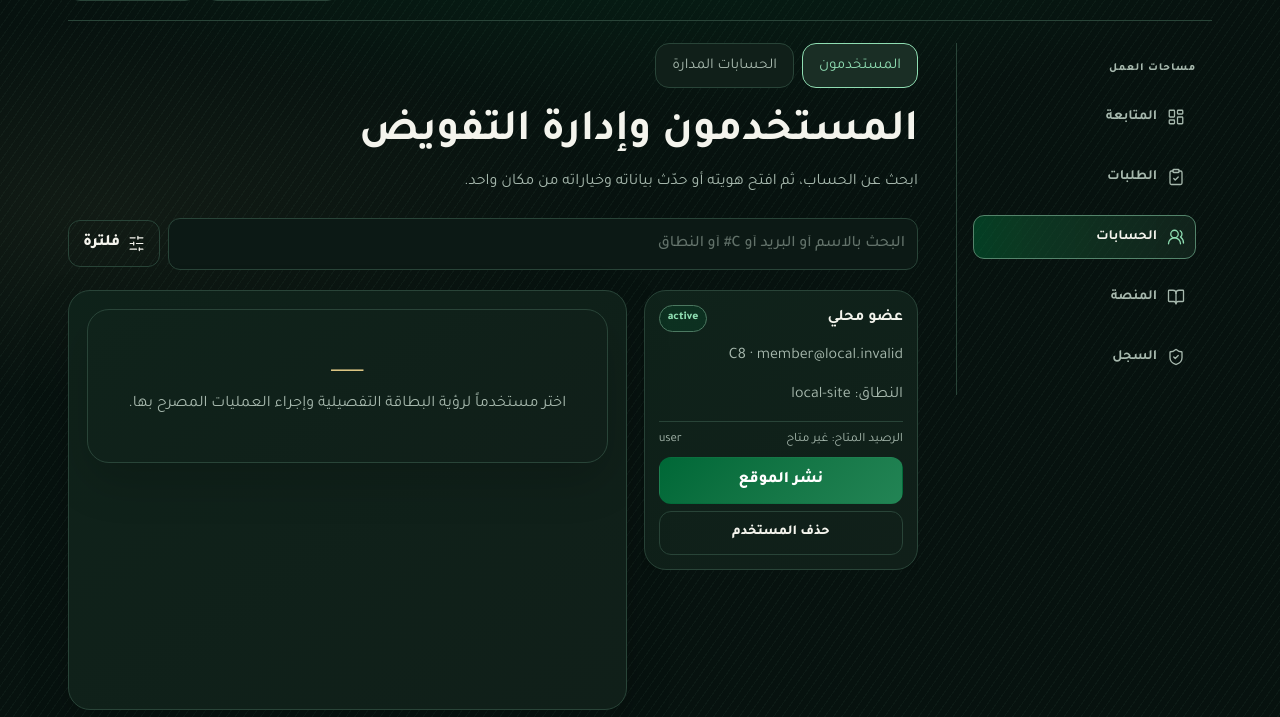
Test case: focused administrator workspace — local DOM/mock API only › opens the existing user-removal panel directly from the user card with account-only selected
Click the button "حذف المستخدم".
click(781, 533)  # box [659,511,903,555]
(page scrolled)
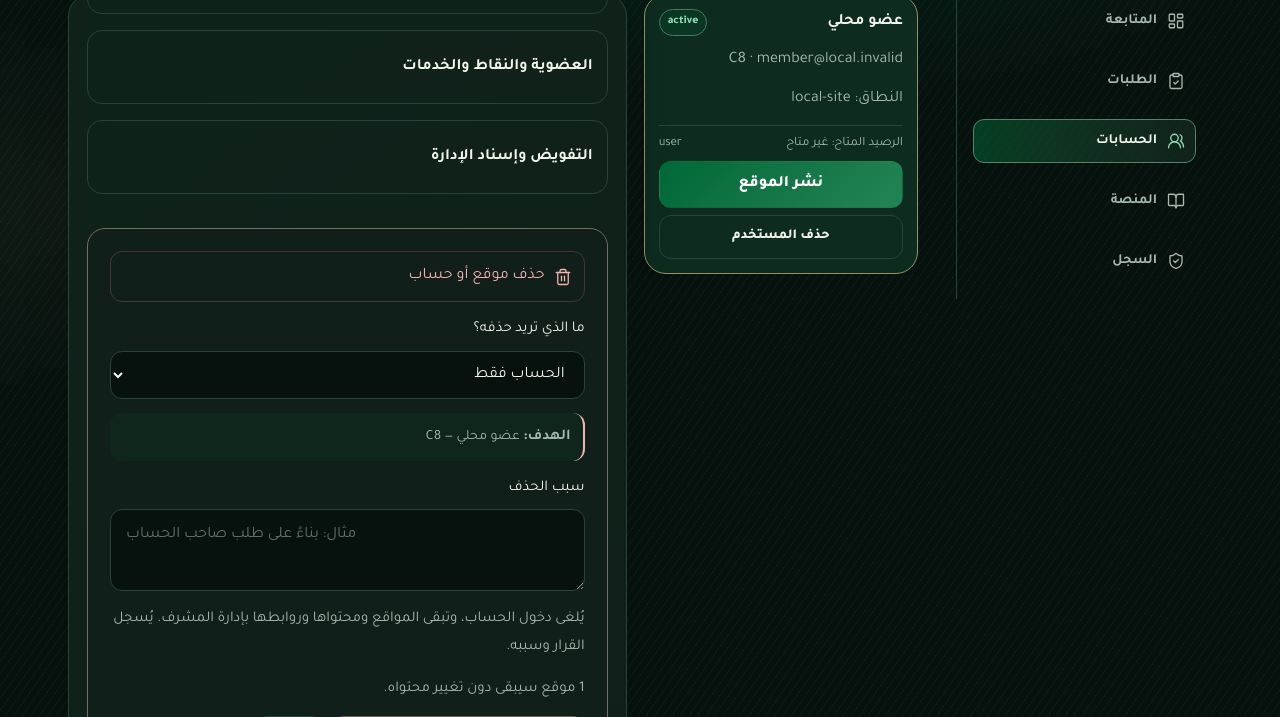
Now the text box labelled "سبب الحذف" is shown, box [110,509,585,591]
Now the dropdown labelled "ما الذي تريد حذفه؟" shows "الحساب فقط", box [110,351,585,399]
